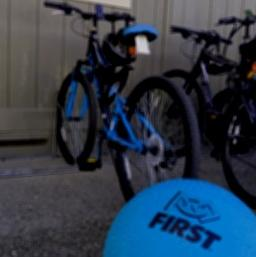algae: (108, 175, 256, 257)
